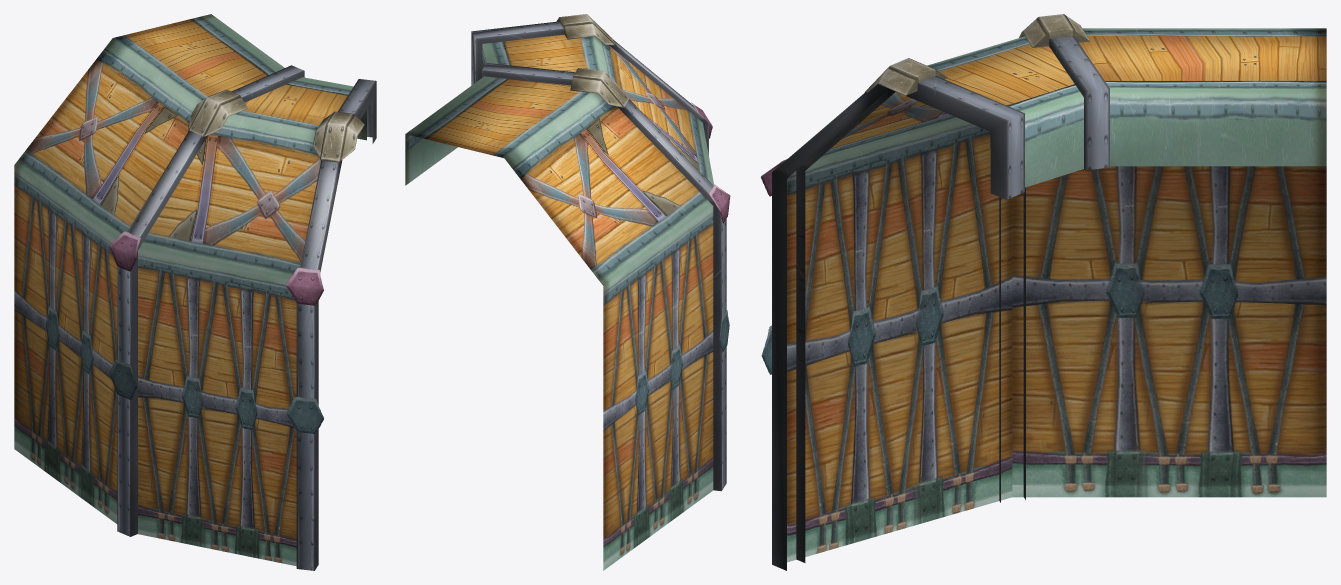
File: obj_madaprrevetment45l.glb
3 views of the same model, side by side, from view 1: azimuth 30°, elevation 25°; view 2: azimuth 150°, elevation 25°; view 3: azimuth 270°, elevation 25° (orthographic). The views are drawn at different scales.
Visible parts, largest first — view 1: part_0; view 2: part_0; view 3: part_0.
Boxes of the visible parts, left/top/right/bottom form: part_0: left=14, top=14, right=376, bottom=570; part_0: left=405, top=14, right=730, bottom=570; part_0: left=761, top=14, right=1326, bottom=570.
Bounding box in the file's own units: 10.47 × 15.38 × 14.4.
Materials: 1 (1 with a texture image).
